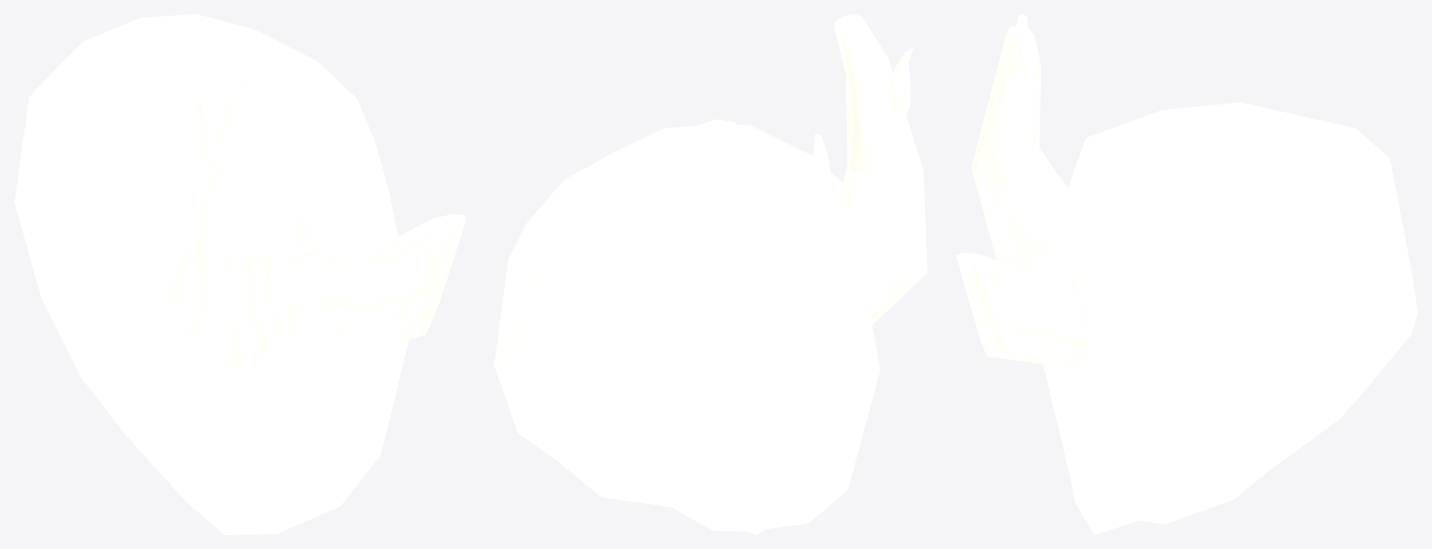
Rendered from cabeçaOrg02.glb.
The picture shows the model from 3 angles, left to right: view 1: azimuth 30°, elevation 25°; view 2: azimuth 150°, elevation 25°; view 3: azimuth 270°, elevation 25°; orthographic projection. The views are drawn at different scales.
Parts seen in each view (by area): view 1: Cabeça, ChifrePricipal, ChifreMenor, Galho01, Galho02; view 2: Cabeça, ChifrePricipal, Galho02; view 3: Cabeça, ChifrePricipal, ChifreMenor, Galho01.
Part boxes in pixels (x1,y1,x2,y2): Cabeça: (14,14,408,534); ChifrePricipal: (167,71,302,367); ChifreMenor: (316,214,465,343); Galho01: (282,198,318,276); Galho02: (194,101,227,176); Cabeça: (494,123,880,534); ChifrePricipal: (834,14,927,324); Galho02: (890,48,913,115); Cabeça: (1043,102,1417,534); ChifrePricipal: (971,25,1068,275); ChifreMenor: (956,252,1084,367); Galho01: (994,170,1027,223).
Size of the model in its own units: 1.33 by 2.03 by 1.81.
Materials: 1 (1 with a texture image).
